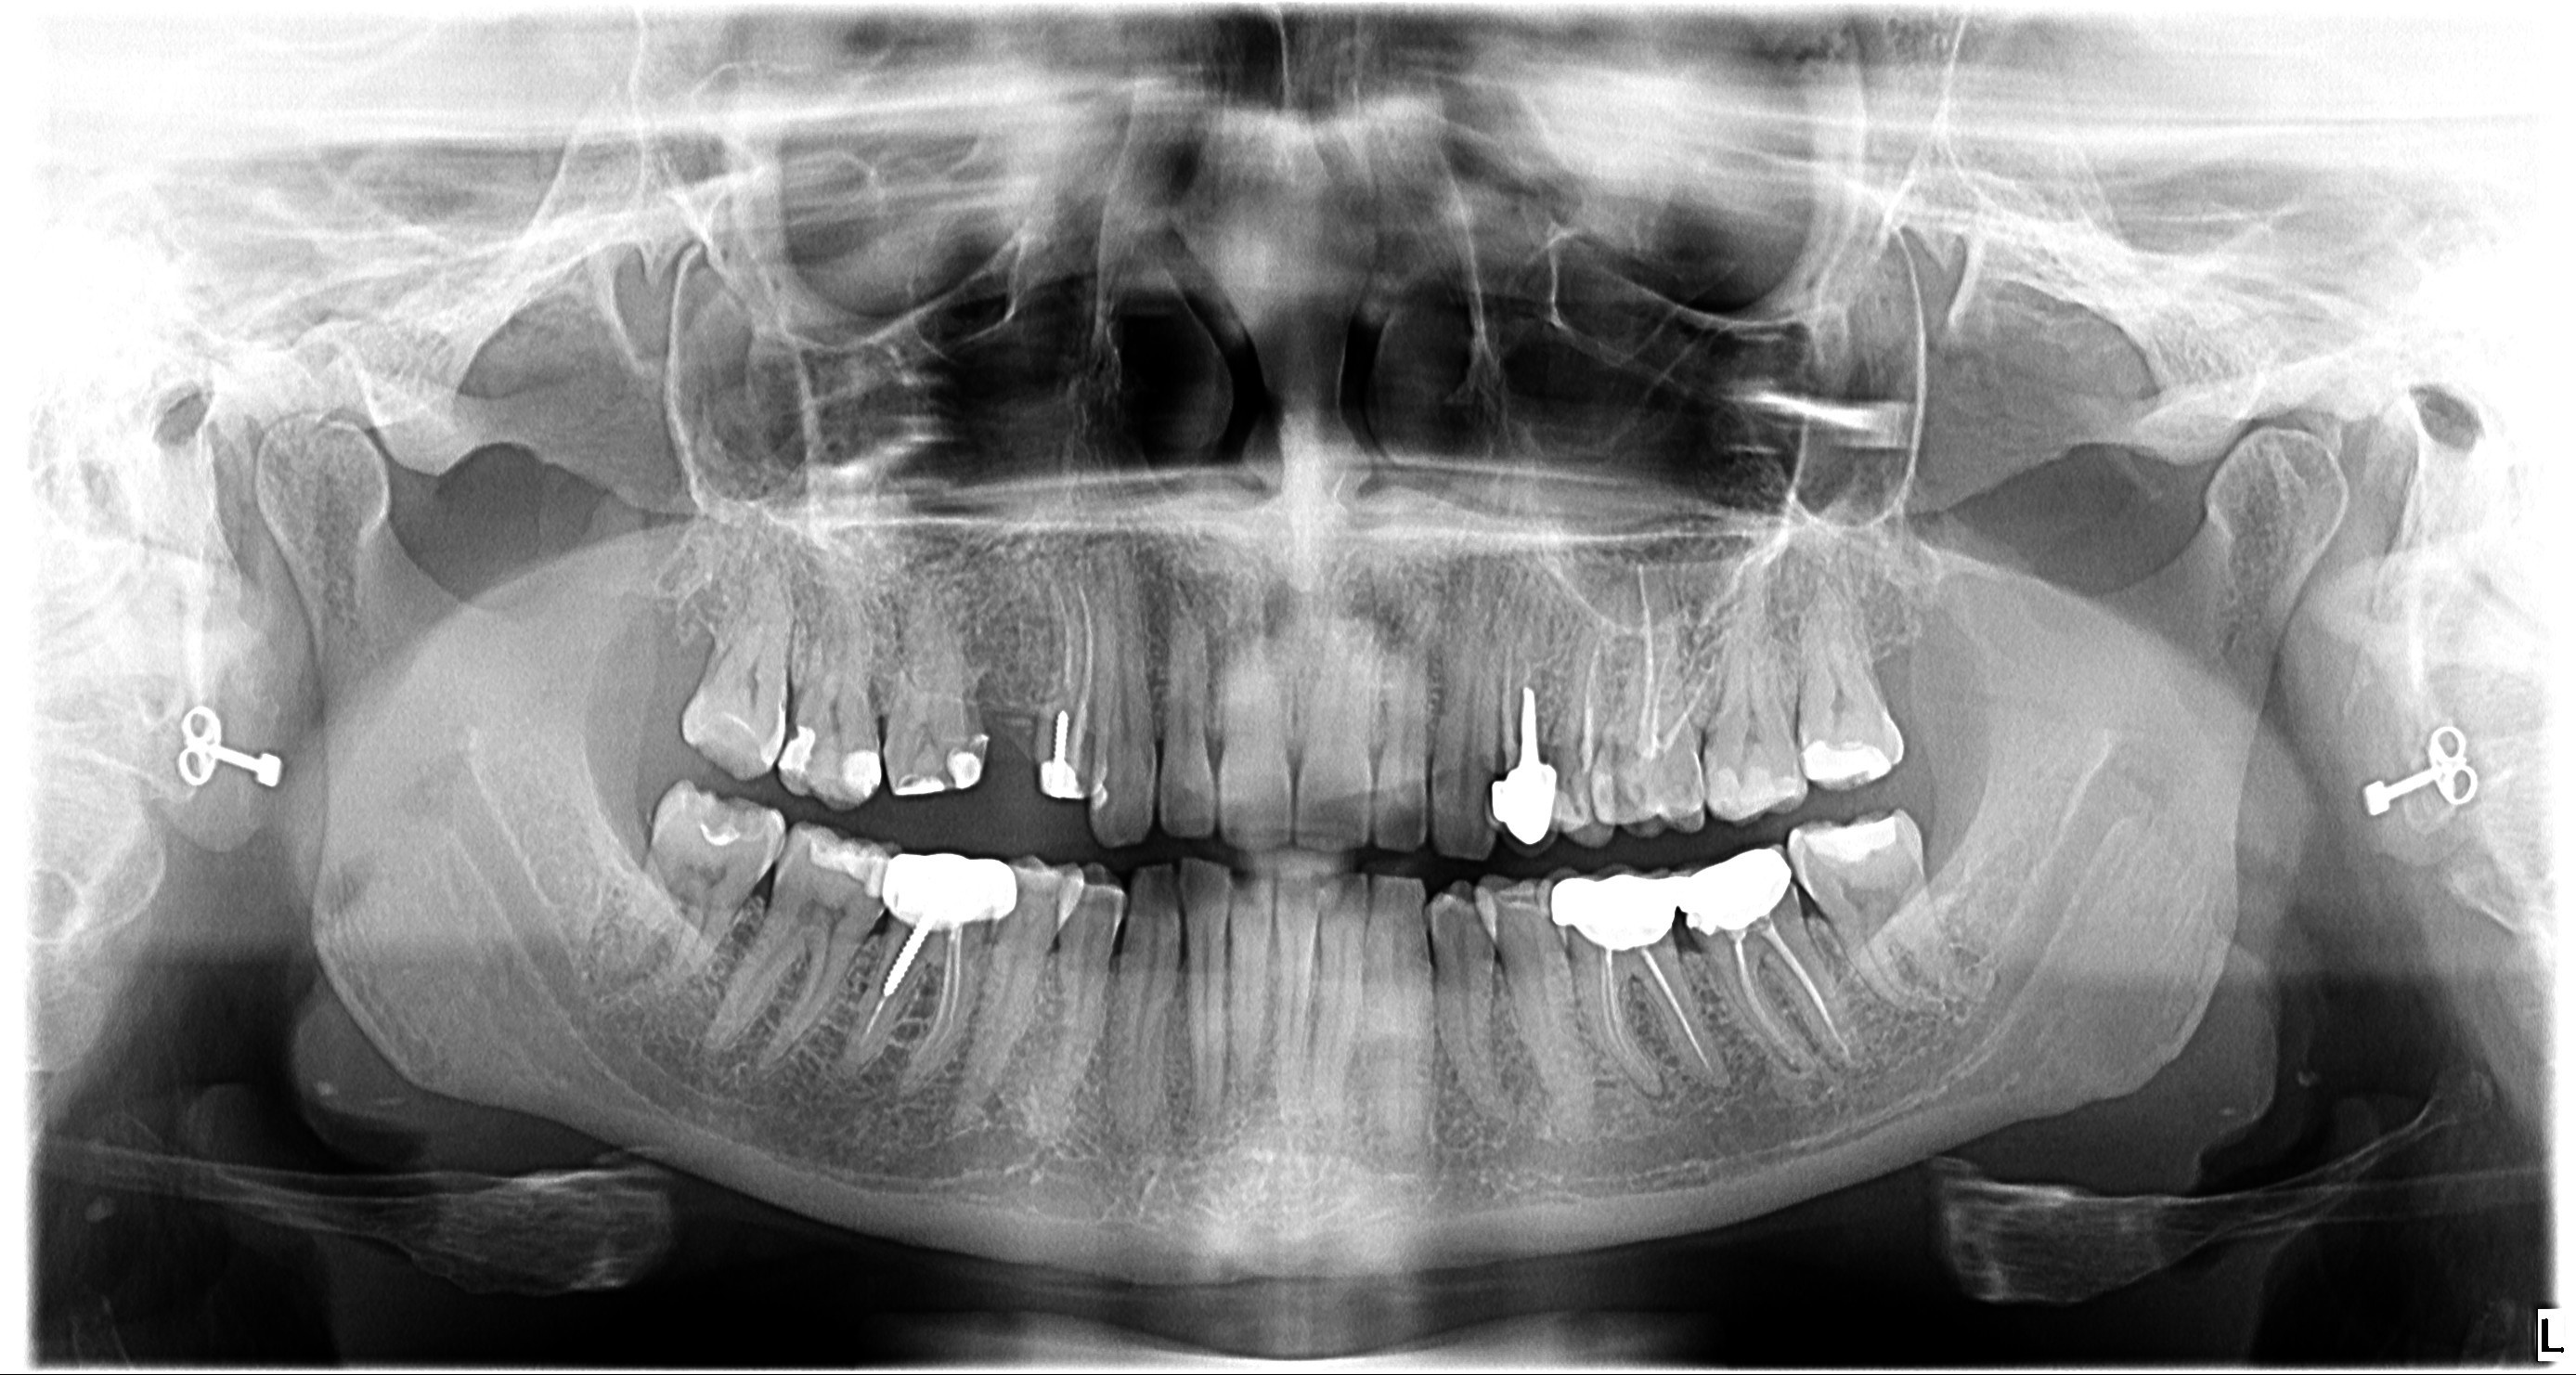END: (1595, 947, 1721, 1094), (1729, 920, 1838, 1061), (860, 929, 968, 1056), (1630, 578, 1709, 751), (1051, 576, 1095, 736), (1491, 641, 1544, 748), (1567, 647, 1603, 763)
IMT: (968, 688, 1046, 734), (1205, 726, 1230, 768)
OBT: (1545, 847, 1791, 949), (886, 854, 1012, 930), (1491, 751, 1555, 854), (1043, 711, 1077, 804)
PRR: (894, 743, 995, 801), (1709, 765, 1803, 820), (1803, 811, 1898, 859), (806, 838, 886, 895), (1796, 738, 1896, 782), (681, 801, 762, 847), (699, 716, 765, 768), (842, 745, 879, 797), (784, 728, 814, 780), (1094, 753, 1111, 816)
